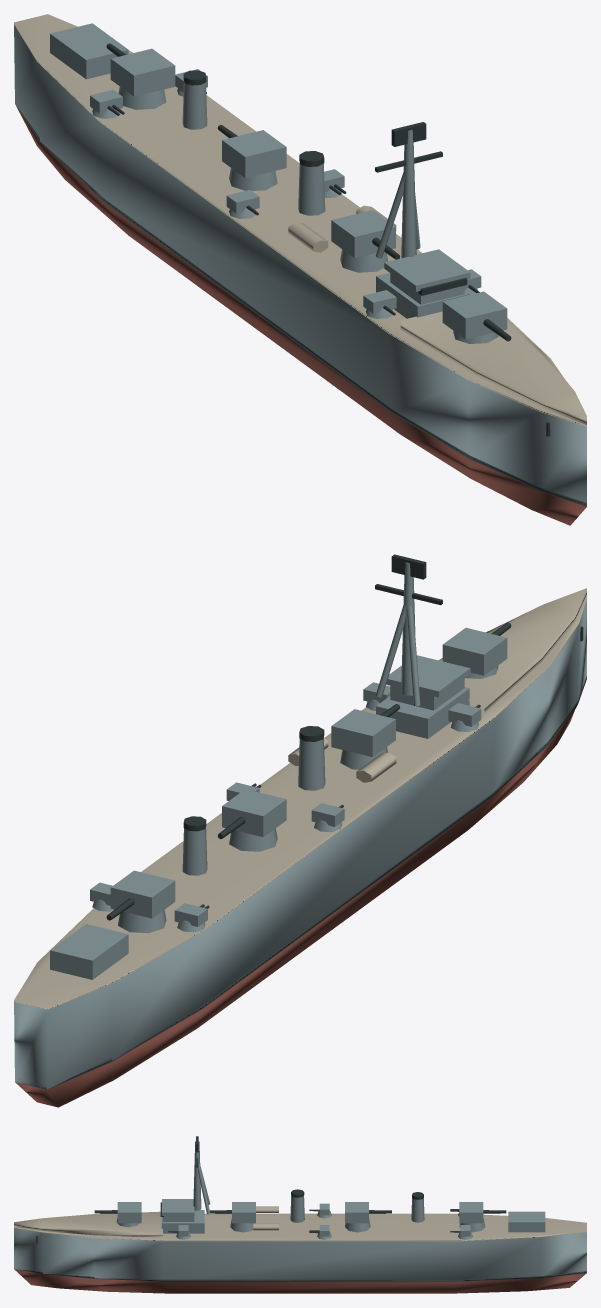
File: fletcher.glb
The picture shows the model from 3 angles, top to bottom: view 1: azimuth 30°, elevation 25°; view 2: azimuth 150°, elevation 25°; view 3: azimuth 270°, elevation 25°; orthographic projection. The views are drawn at different scales.
Parts seen in each view (by area): view 1: Freeboard, Deck, UnderwaterHull, Forecastle, AftDeckhouse, Waterline, Main-Casing-3, Main-Casing-2, Main-Casing-0, Bridge-Roof, Main-Casing-1, Foremast-Pole (+8 smaller); view 2: Freeboard, Deck, UnderwaterHull, Forecastle, AftDeckhouse, Main-Casing-1, Waterline, Main-Casing-3, Main-Casing-0, Main-Casing-2, Bridge-Foundation, Bridge-Roof (+7 smaller); view 3: Freeboard, Deck, UnderwaterHull, Forecastle, Waterline, AftDeckhouse, Bridge-Foundation, Bridge-Roof, Main-Casing-0, Main-Casing-3, Main-Casing-1, Main-Casing-2 (+3 smaller).
Boxes of the visible parts, <box> form: Freeboard: <box>14,24,586,505</box>; Deck: <box>14,14,586,426</box>; UnderwaterHull: <box>16,106,586,525</box>; Forecastle: <box>400,311,586,424</box>; AftDeckhouse: <box>50,23,128,79</box>; Waterline: <box>15,104,586,506</box>; Main-Casing-3: <box>110,48,175,96</box>; Main-Casing-2: <box>222,130,286,177</box>; Main-Casing-0: <box>442,291,507,339</box>; Bridge-Roof: <box>384,249,470,291</box>; Main-Casing-1: <box>331,210,395,258</box>; Foremast-Pole: <box>401,130,416,258</box>; Freeboard: <box>14,600,586,1089</box>; Deck: <box>14,598,586,1009</box>; UnderwaterHull: <box>15,705,577,1107</box>; Forecastle: <box>438,588,586,712</box>; AftDeckhouse: <box>50,924,128,979</box>; Main-Casing-1: <box>331,709,395,757</box>; Waterline: <box>18,676,586,1089</box>; Main-Casing-3: <box>110,870,175,918</box>; Main-Casing-0: <box>442,627,507,675</box>; Main-Casing-2: <box>222,789,286,837</box>; Bridge-Foundation: <box>376,687,469,738</box>; Bridge-Roof: <box>386,655,470,697</box>; Freeboard: <box>14,1228,586,1279</box>; Deck: <box>14,1213,586,1241</box>; UnderwaterHull: <box>14,1269,586,1293</box>; Forecastle: <box>14,1211,162,1237</box>; Waterline: <box>16,1269,586,1281</box>; AftDeckhouse: <box>508,1211,545,1232</box>; Bridge-Foundation: <box>161,1210,204,1233</box>; Bridge-Roof: <box>162,1199,194,1215</box>; Main-Casing-0: <box>117,1202,141,1223</box>; Main-Casing-3: <box>459,1202,483,1223</box>; Main-Casing-1: <box>232,1202,255,1223</box>; Main-Casing-2: <box>345,1202,368,1223</box>.
Size of the model in its own units: 13.52 by 32.91 by 118.
